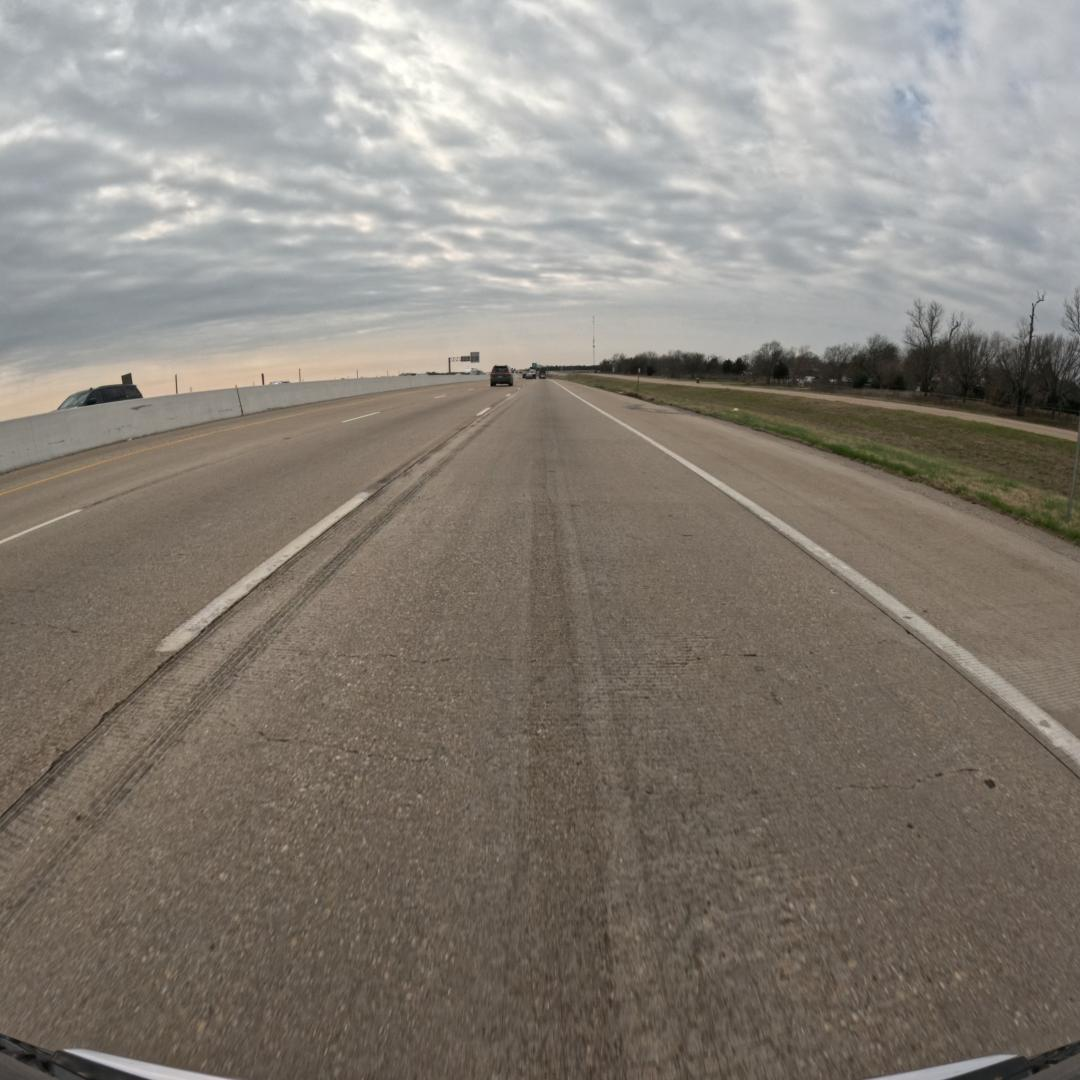lane0: (0, 383, 1080, 1077)
lane1: (0, 386, 516, 814)
